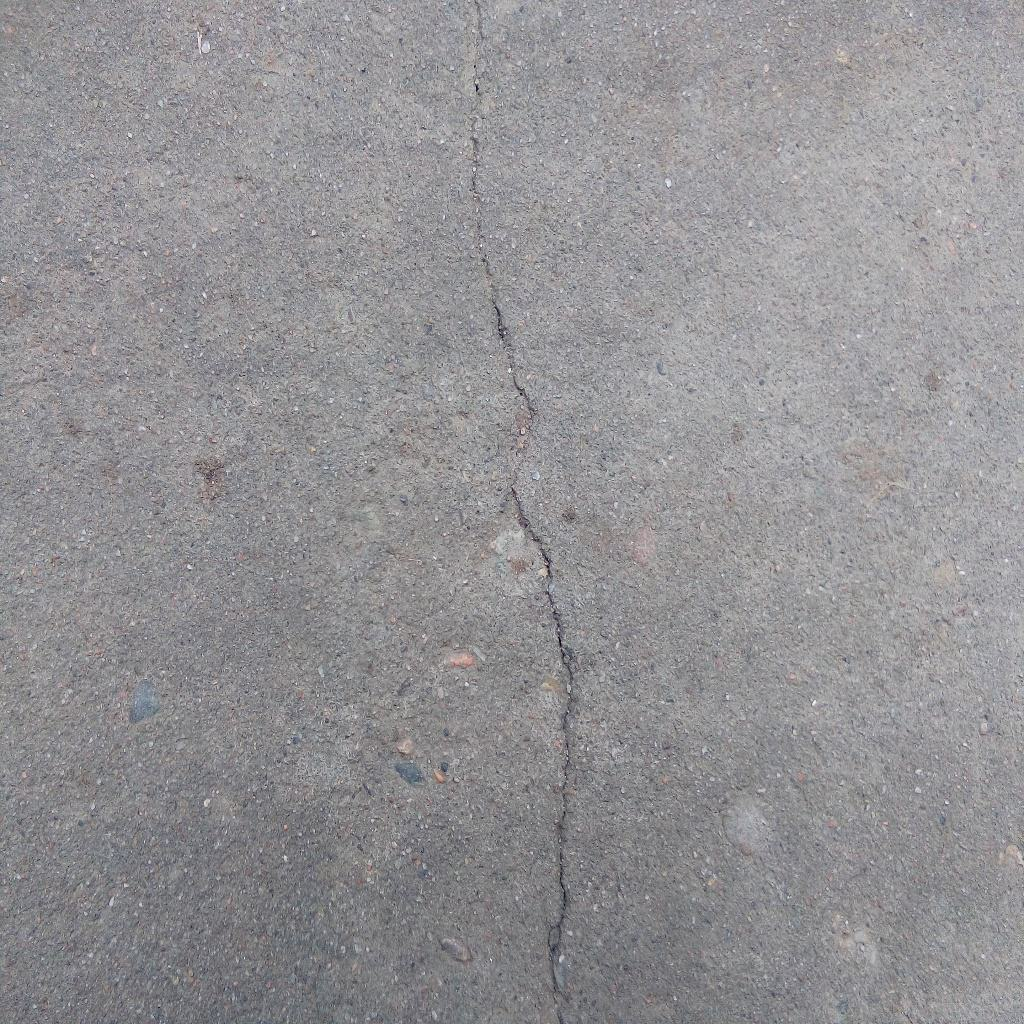Crack: (468, 1, 577, 1024)
